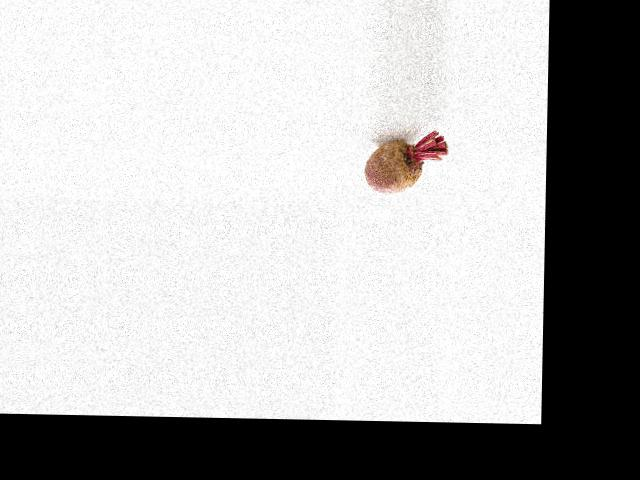beet: (363, 128, 448, 194)
